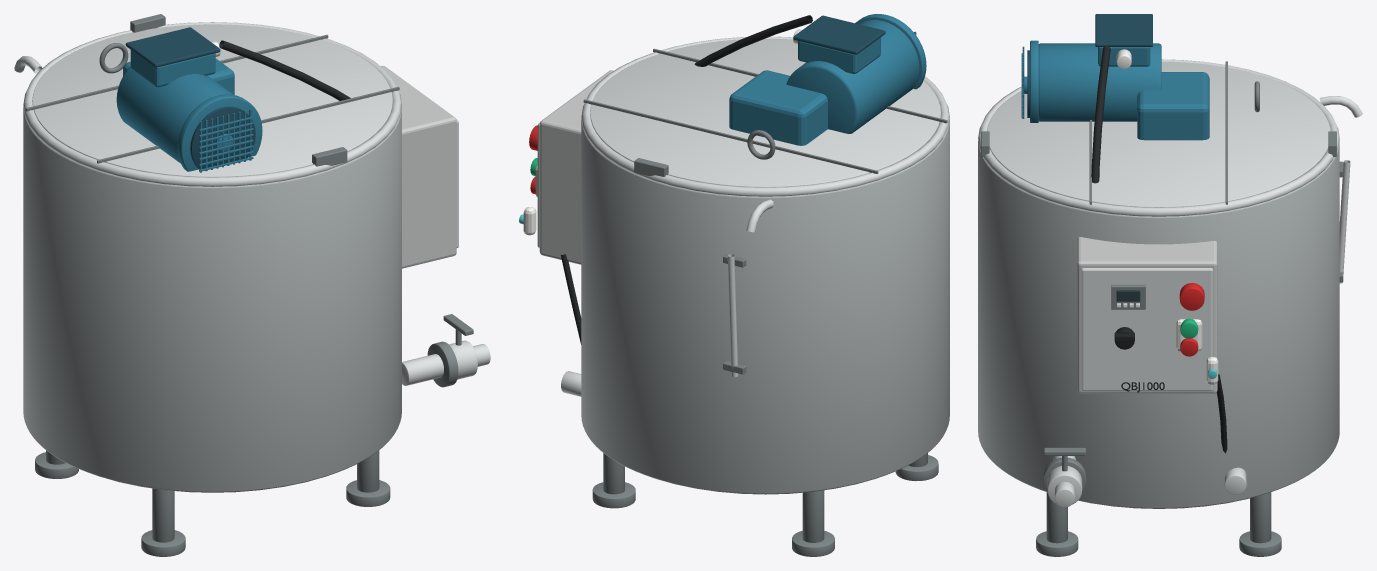
The model's file is qbj-1000-chocolate-holding-tank.glb.
3 views of the same model, side by side, from view 1: azimuth 30°, elevation 25°; view 2: azimuth 150°, elevation 25°; view 3: azimuth 270°, elevation 25° (orthographic). The views are drawn at different scales.
Visible parts, largest first — view 1: tank.outer_jacket, lid.cover_plate, control.cabinet, tank.top_rolled_lip, drive.motor_body, drive.terminal_lid, drive.motor_front, drive.motor_grille, drive.terminal_box, cable.motor_to_control, leg.tube.03, outlet.neck (+9 smaller); view 2: tank.outer_jacket, lid.cover_plate, drive.motor_body, control.cabinet, drive.gear_reducer, tank.top_rolled_lip, drive.terminal_lid, drive.terminal_box, lid.split_seam.0.235, leg.tube.02, cable.motor_to_control, water.level_tube (+7 smaller); view 3: tank.outer_jacket, lid.cover_plate, control.door_face, drive.motor_body, control.cabinet, tank.top_rolled_lip, drive.gear_reducer, drive.terminal_lid, cable.motor_to_control, leg.tube.01, leg.tube.04, water.level_tube (+10 smaller).
Part boxes in pixels (left/top/right/bottom): tank.outer_jacket: left=23, top=106, right=401, bottom=492; lid.cover_plate: left=32, top=24, right=392, bottom=177; control.cabinet: left=381, top=65, right=456, bottom=268; tank.top_rolled_lip: left=23, top=22, right=401, bottom=186; drive.motor_body: left=116, top=66, right=233, bottom=163; drive.terminal_lid: left=125, top=27, right=220, bottom=67; drive.motor_front: left=177, top=94, right=262, bottom=171; drive.motor_grille: left=190, top=106, right=255, bottom=169; drive.terminal_box: left=130, top=50, right=215, bottom=87; cable.motor_to_control: left=219, top=40, right=350, bottom=100; leg.tube.03: left=152, top=488, right=174, bottom=542; outlet.neck: left=402, top=354, right=443, bottom=385; tank.outer_jacket: left=581, top=119, right=949, bottom=494; lid.cover_plate: left=590, top=38, right=940, bottom=187; drive.motor_body: left=786, top=20, right=919, bottom=133; control.cabinet: left=539, top=70, right=613, bottom=264; drive.gear_reducer: left=729, top=70, right=827, bottom=145; tank.top_rolled_lip: left=581, top=36, right=949, bottom=196; drive.terminal_lid: left=793, top=15, right=885, bottom=54; drive.terminal_box: left=798, top=37, right=880, bottom=73; lid.split_seam.0.235: left=583, top=99, right=878, bottom=173; leg.tube.02: left=802, top=490, right=824, bottom=542; cable.motor_to_control: left=694, top=15, right=812, bottom=66; water.level_tube: left=727, top=254, right=738, bottom=377; tank.outer_jacket: left=978, top=140, right=1339, bottom=508; lid.cover_plate: left=987, top=61, right=1330, bottom=207; control.door_face: left=1081, top=268, right=1213, bottom=390; drive.motor_body: left=1038, top=43, right=1161, bottom=121; control.cabinet: left=1077, top=237, right=1217, bottom=393; tank.top_rolled_lip: left=978, top=59, right=1339, bottom=216; drive.gear_reducer: left=1137, top=72, right=1209, bottom=140; drive.terminal_lid: left=1095, top=14, right=1152, bottom=46; cable.motor_to_control: left=1091, top=46, right=1110, bottom=183; leg.tube.01: left=1250, top=492, right=1271, bottom=543; leg.tube.04: left=1046, top=492, right=1067, bottom=543; water.level_tube: left=1339, top=160, right=1350, bottom=283.
Bounding box in the file's own units: 1.48 × 1.7 × 1.33.
